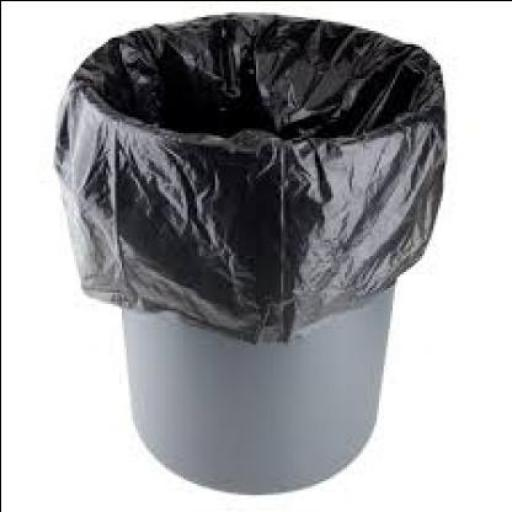plastic: (50, 9, 441, 342), (113, 278, 394, 489)
